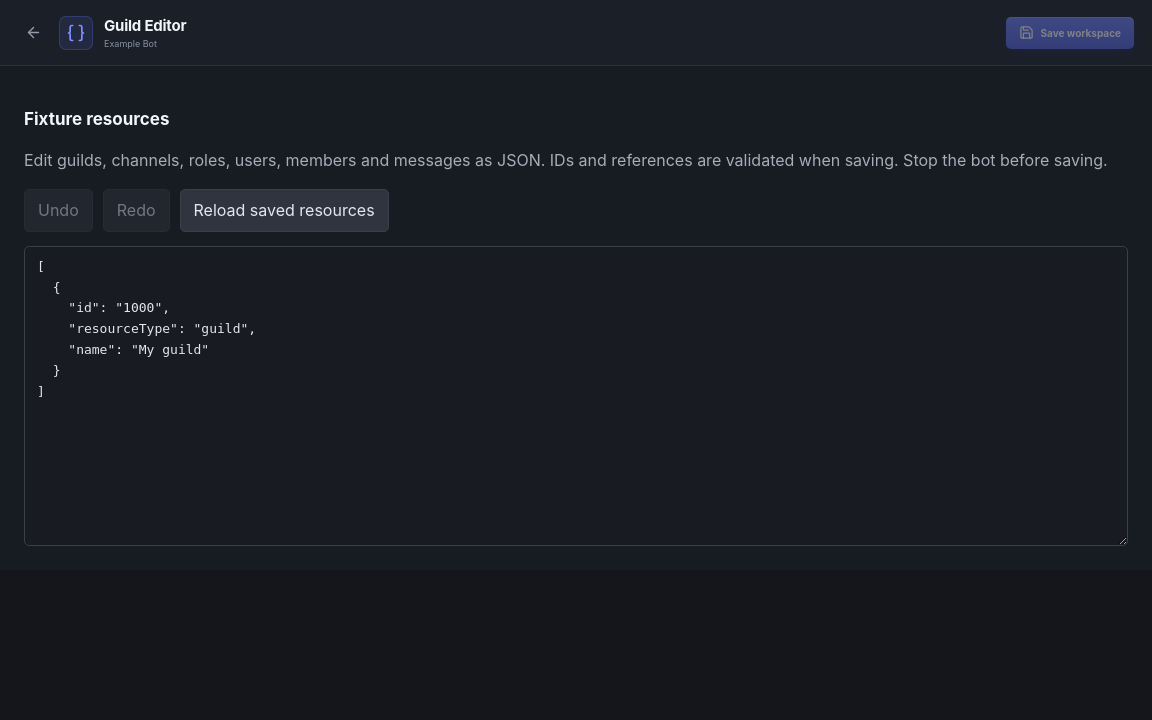
project workspace workflow › preserves the draft and exposes an external change conflict instead of reporting a successful save
This screenshot has width=1152, height=720.
Replace the text in the text box named "Fixture resources JSON" with "[]" at (576, 396), box [24,246,1128,546]
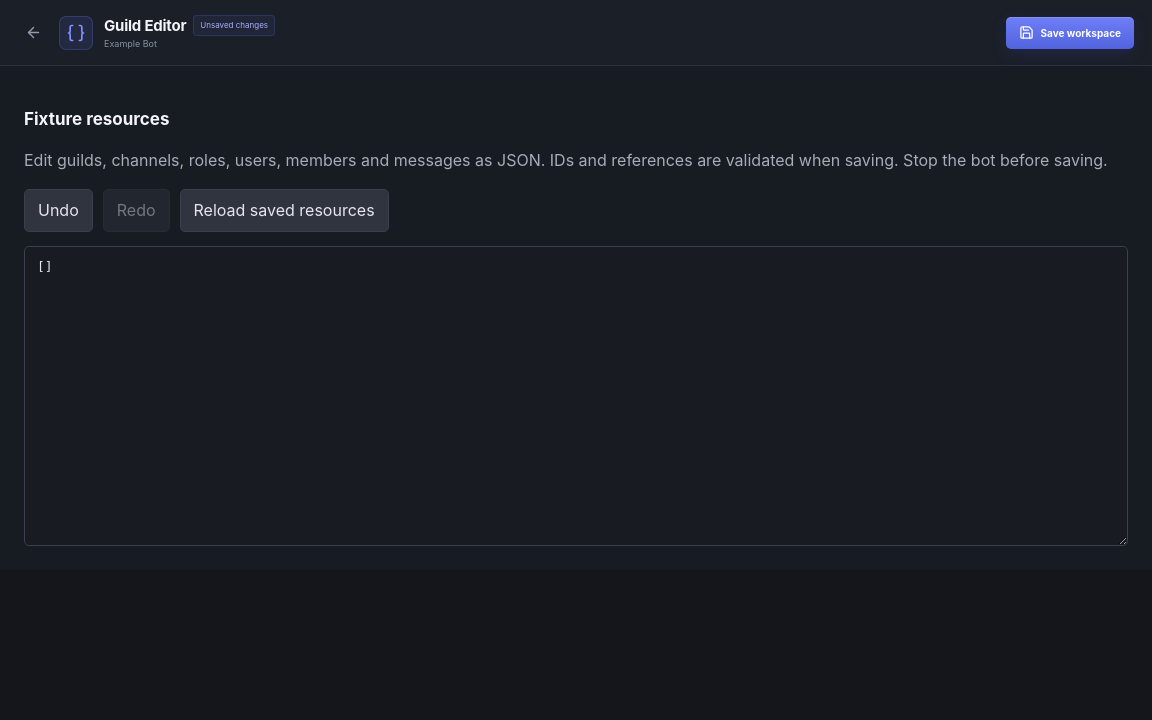
Click the button "Save workspace" at (1070, 32), box [1006,16,1134,48]
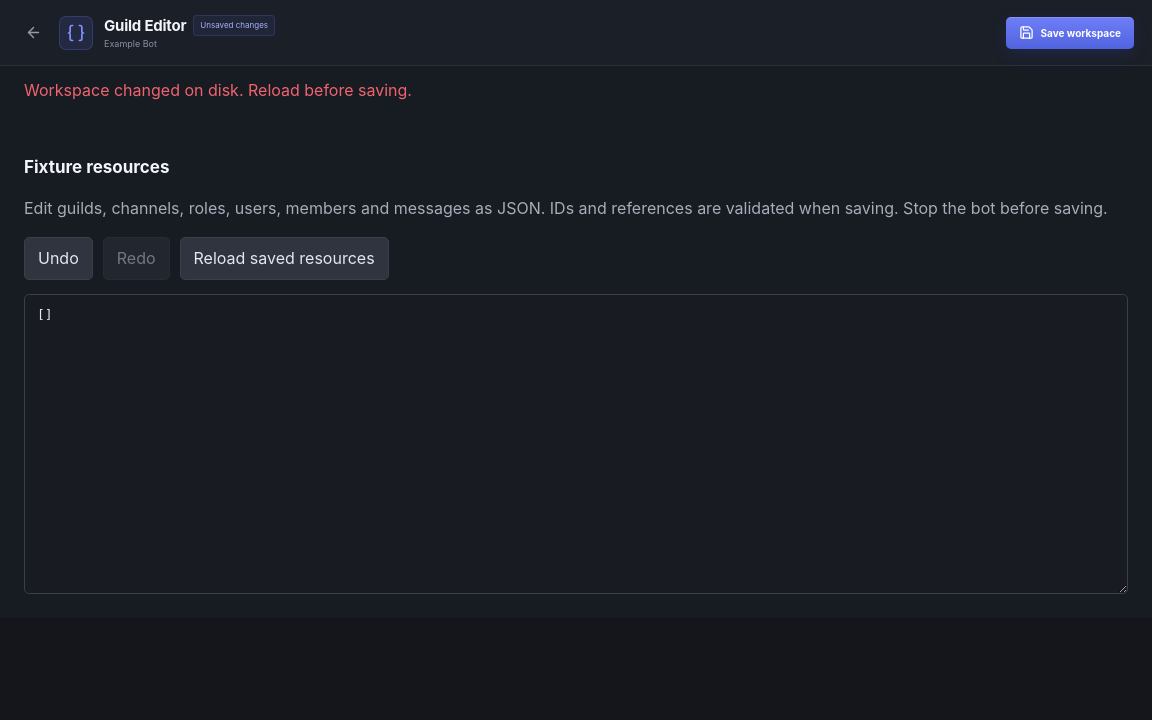
Expected: the text "Unsaved changes" is shown, [193,15,275,36]
Expected: the message shows "Workspace changed on disk.", [24,80,412,100]
